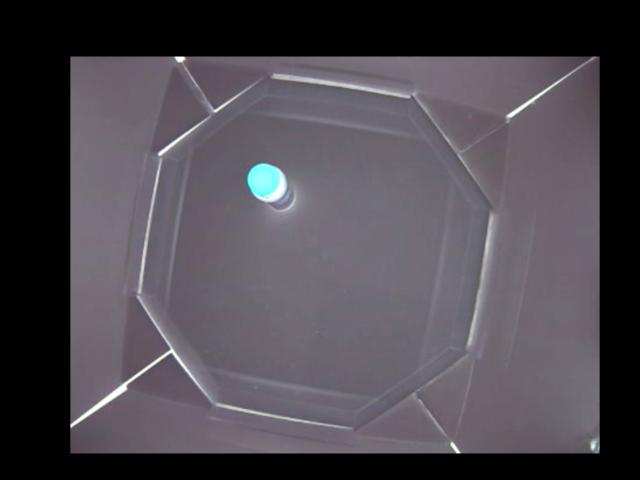Medicine: (246, 163, 297, 211)
